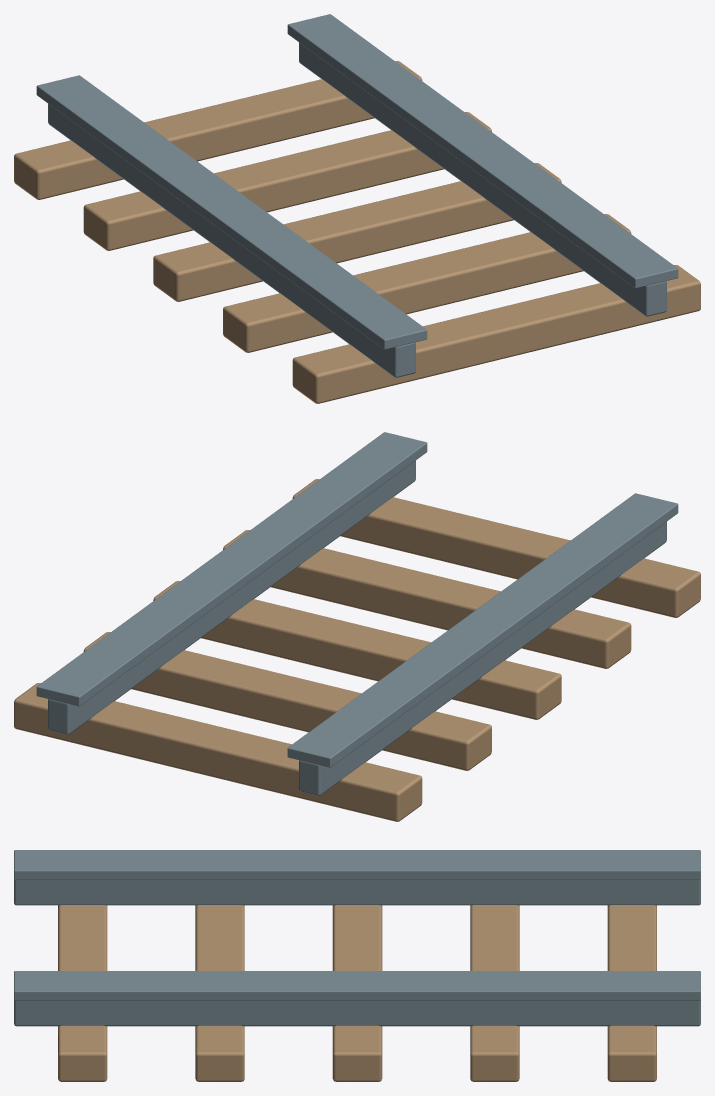
File: rail_section.glb
The picture shows the model from 3 angles, top to bottom: view 1: azimuth 30°, elevation 25°; view 2: azimuth 150°, elevation 25°; view 3: azimuth 270°, elevation 25°; orthographic projection.
Visible parts, largest first — view 1: rail_section; view 2: rail_section; view 3: rail_section.
Boxes of the visible parts, x1,y1,x2,y2 form: rail_section: (14,14,700,403); rail_section: (14,432,700,821); rail_section: (14,850,700,1081).
Bounding box in the file's own units: 1.6 × 0.28 × 2.5.
